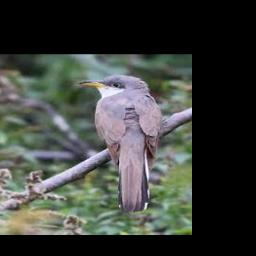Cuckoo: (79, 74, 163, 212)
